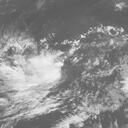cyclone: (10, 37, 64, 105)
